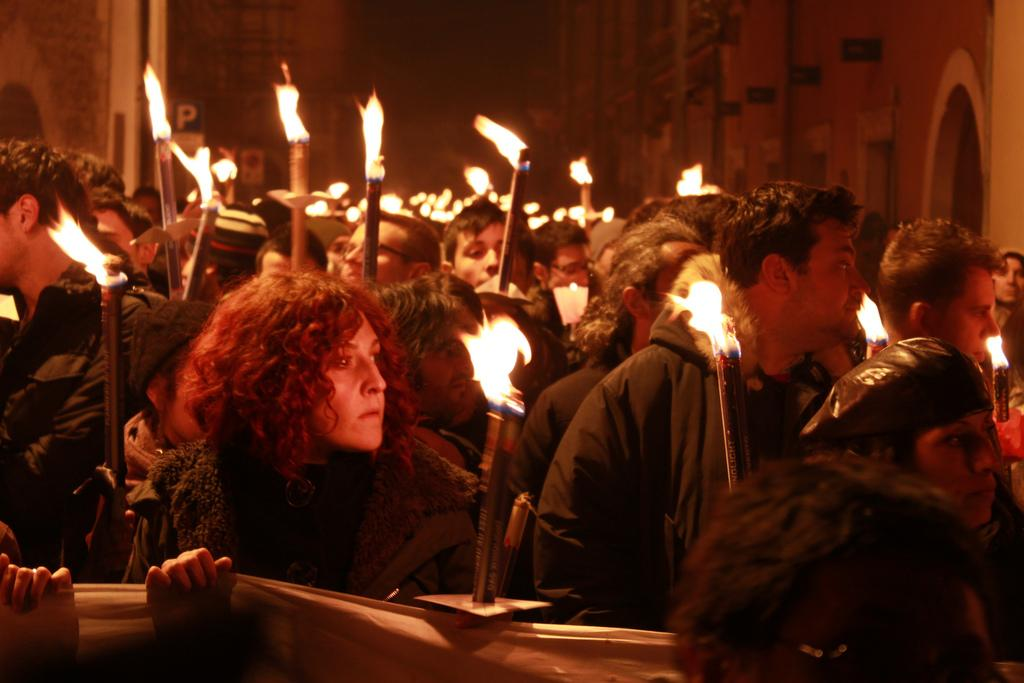fire: (470, 313, 548, 408), (665, 283, 752, 348), (48, 208, 108, 268), (475, 113, 523, 168), (365, 102, 393, 183), (838, 297, 890, 337), (983, 338, 1010, 370)
